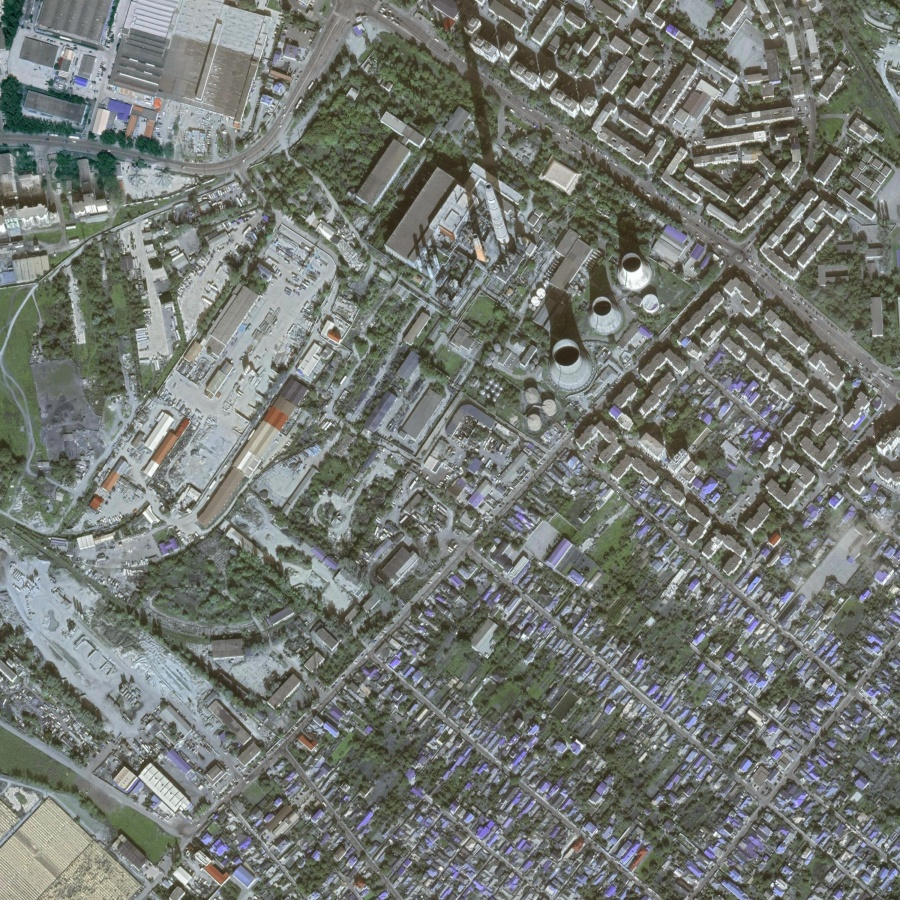PowerPlant: (392, 74, 678, 418)
